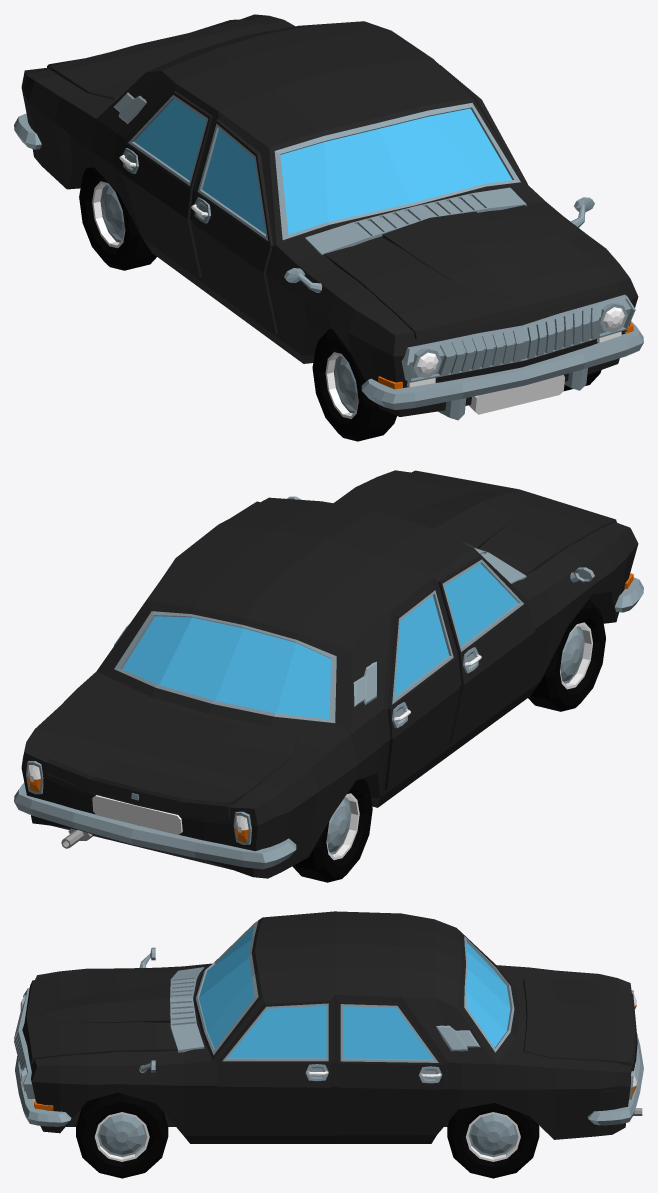
File: car_6_black.fbx
3 views of the same model, one above another, from view 1: azimuth 30°, elevation 25°; view 2: azimuth 150°, elevation 25°; view 3: azimuth 270°, elevation 25° (orthographic). The views are drawn at different scales.
Parts seen in each view (by area): view 1: wolga_24, Front_Right_Wheel.003, Rear_Right_Wheel; view 2: wolga_24, Front_Right_Wheel.003, Rear_Right_Wheel; view 3: wolga_24, Front_Left_Wheel.003, Rear_Left_Wheel.
Part boxes in pixels (x1,y1,x2,y2): wolga_24: [14, 14, 643, 420]; Front_Right_Wheel.003: [312, 328, 396, 441]; Rear_Right_Wheel: [79, 167, 156, 270]; wolga_24: [14, 470, 643, 878]; Front_Right_Wheel.003: [528, 599, 605, 711]; Rear_Right_Wheel: [292, 778, 372, 882]; wolga_24: [14, 911, 643, 1143]; Front_Left_Wheel.003: [76, 1092, 168, 1178]; Rear_Left_Wheel: [447, 1103, 539, 1178].
Bounding box in the file's own units: 201 × 149 × 448.
